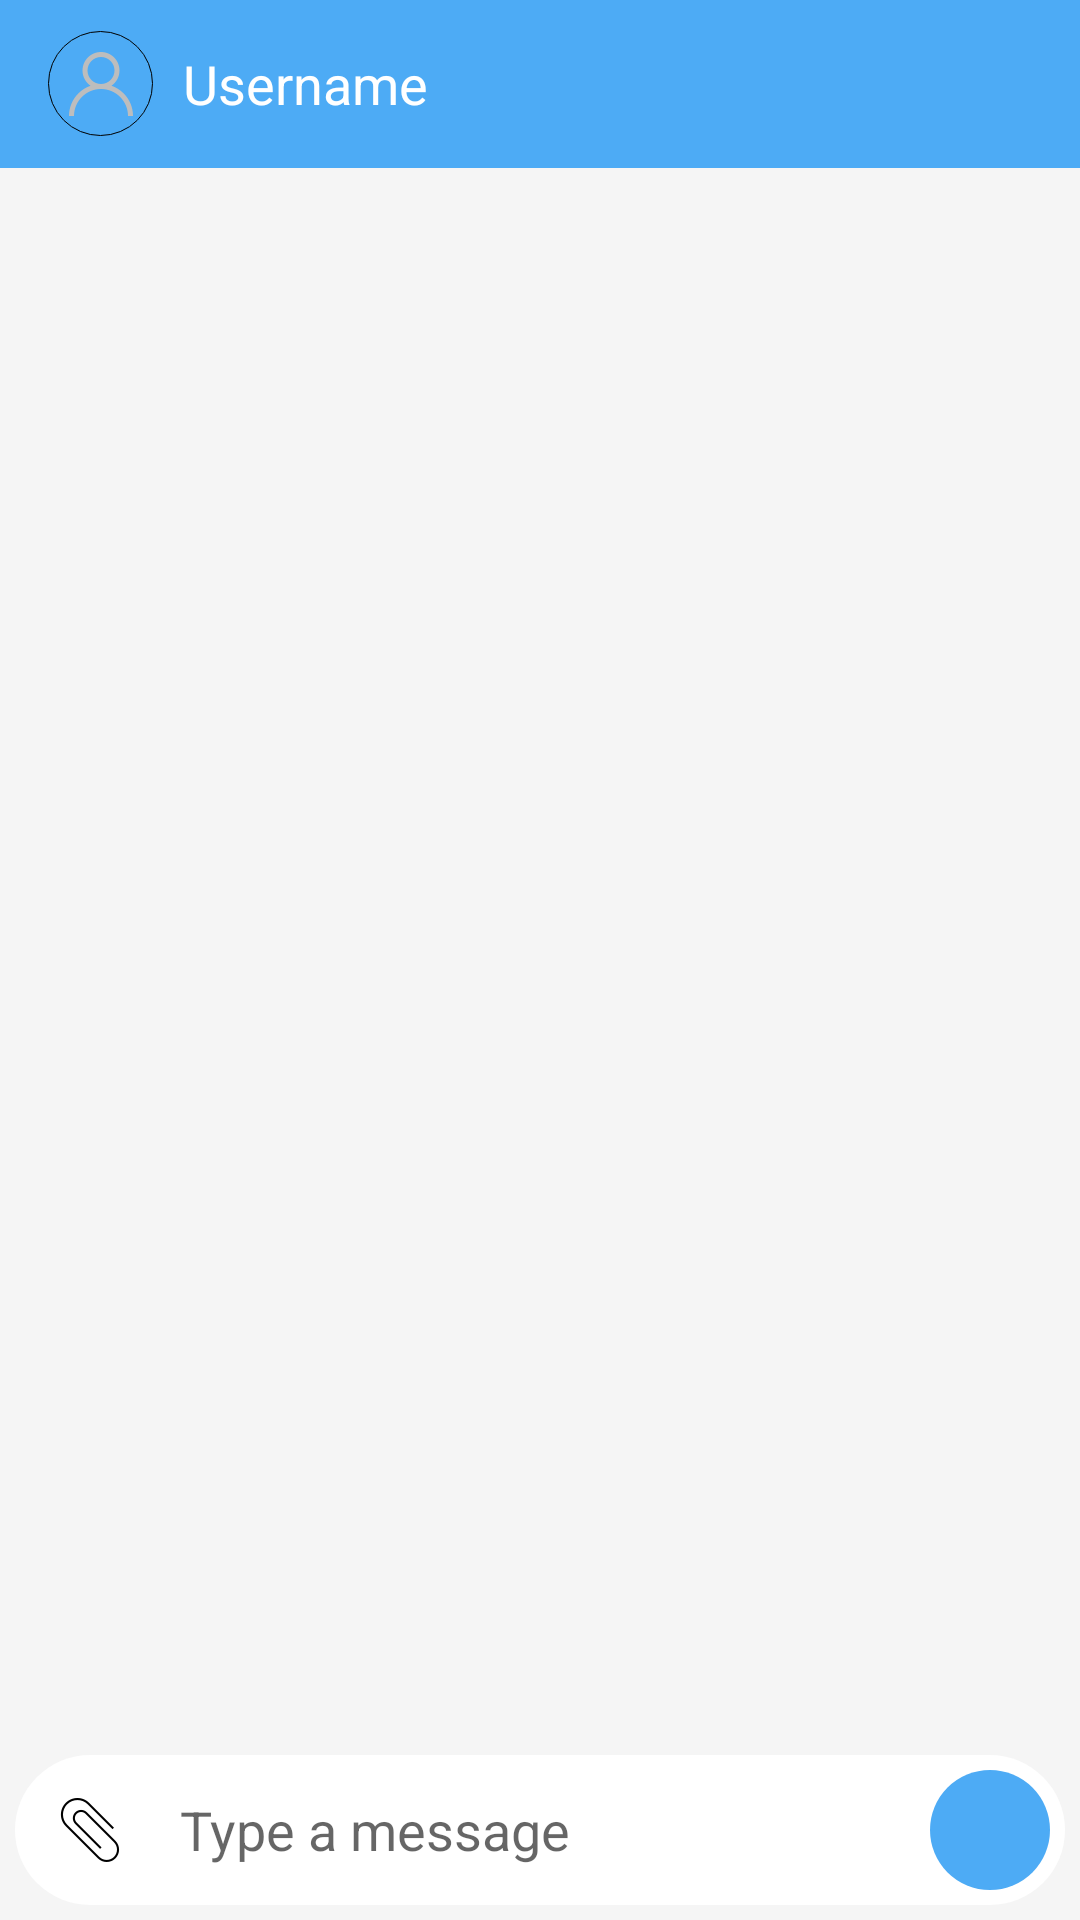

Screen size 1080px×1920px. Icon name, then its box in pixels as (x1, y1, x2, y2):
clipclip: (61, 1798, 119, 1862)
userpic: (48, 31, 153, 136)
